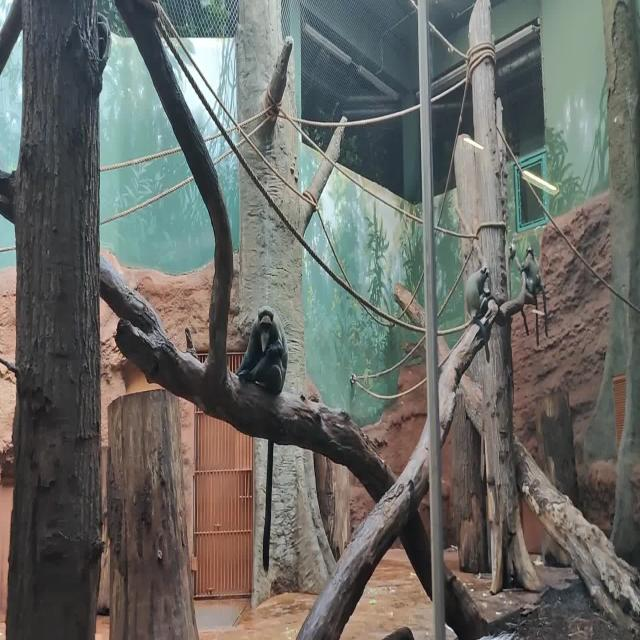monkey: (234, 304, 288, 573), (466, 266, 490, 364), (520, 246, 540, 346)
